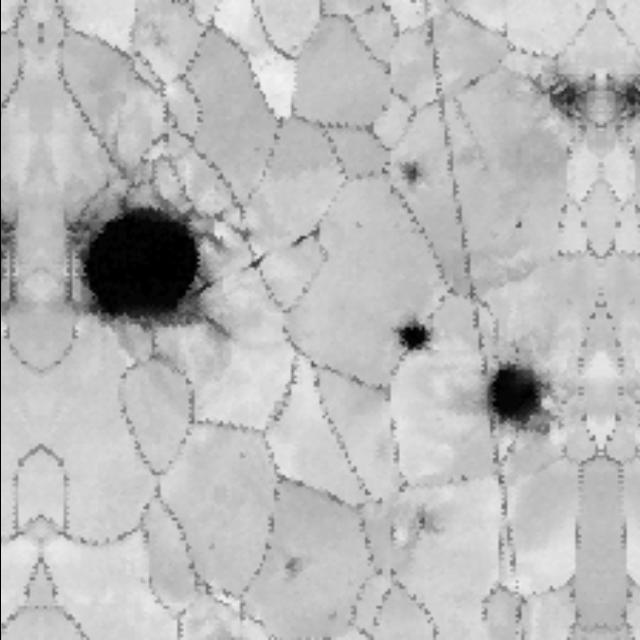good_void: (60, 163, 250, 343), (468, 349, 557, 441), (525, 65, 596, 140), (602, 65, 640, 140), (391, 309, 431, 364), (272, 546, 310, 585), (405, 505, 442, 543), (281, 225, 322, 259), (392, 149, 419, 184), (237, 253, 264, 282), (505, 217, 527, 236), (458, 75, 481, 93), (357, 3, 378, 18)
